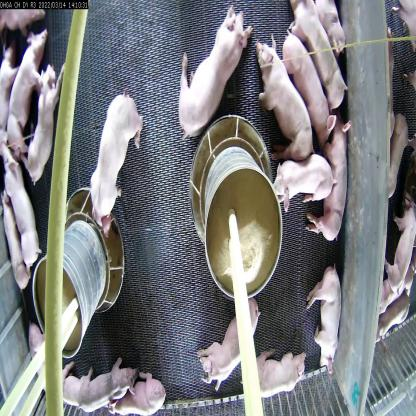Pig: (175, 5, 246, 130), (250, 36, 320, 159), (85, 96, 144, 217), (296, 0, 351, 113), (277, 25, 329, 138), (4, 24, 49, 145), (189, 300, 257, 379), (24, 70, 65, 188), (246, 346, 317, 403), (307, 265, 345, 369), (274, 148, 329, 218), (320, 124, 353, 239), (4, 151, 34, 266), (116, 377, 168, 415)
